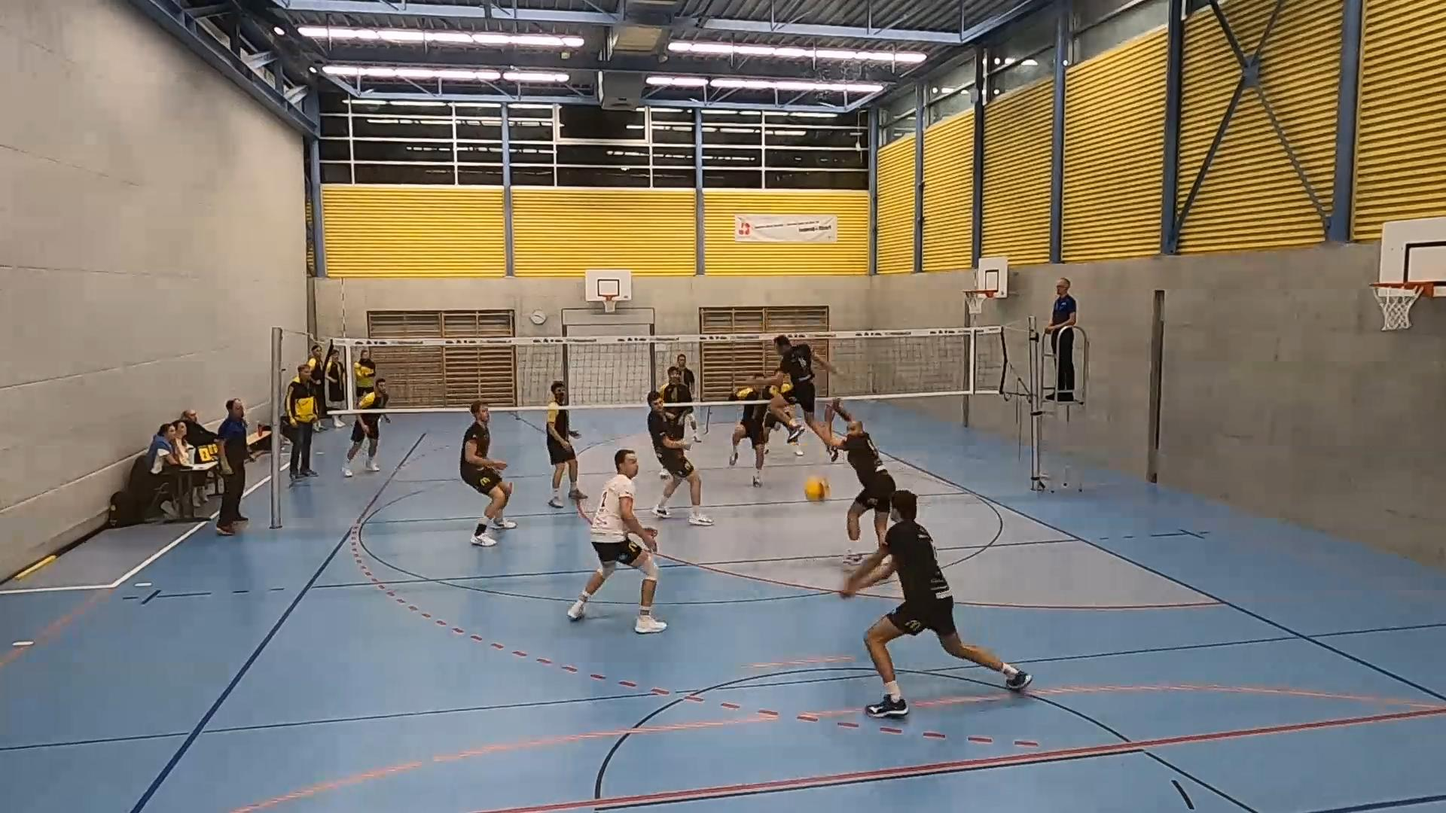difesa: (834, 480, 1033, 731)
